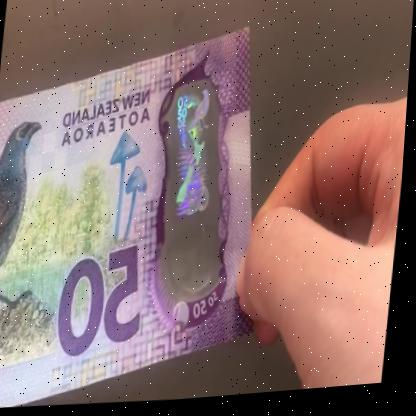50B: (161, 87, 238, 292)
